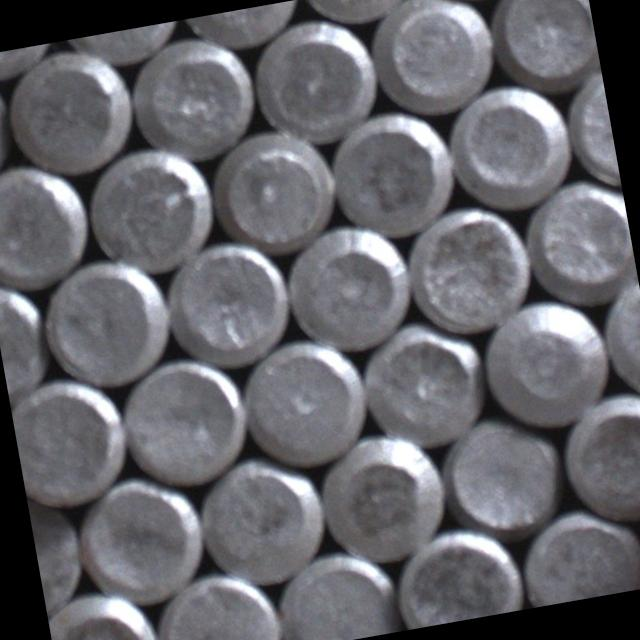tool: (470, 290, 618, 438), (310, 422, 455, 572), (110, 346, 256, 494), (230, 328, 375, 476), (76, 136, 222, 282), (190, 446, 334, 594), (68, 465, 212, 613), (350, 312, 494, 458), (34, 249, 178, 395), (276, 214, 419, 359), (321, 101, 464, 245), (121, 27, 264, 170), (0, 39, 141, 184), (398, 197, 540, 339), (204, 120, 346, 262), (438, 74, 580, 216), (245, 9, 386, 151), (156, 231, 297, 372), (433, 403, 572, 542), (6, 366, 136, 513), (365, 0, 504, 122), (520, 172, 640, 308), (386, 518, 526, 630), (509, 499, 640, 609), (0, 153, 97, 296), (265, 541, 402, 640), (550, 388, 640, 531), (480, 0, 602, 97), (145, 561, 286, 640), (44, 581, 161, 640)
